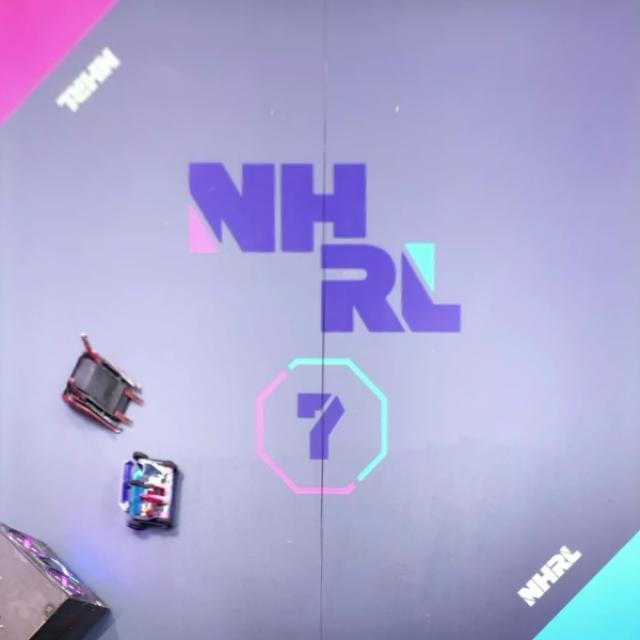housebot: (1, 523, 110, 640)
robot: (63, 332, 144, 434), (120, 448, 180, 528)
